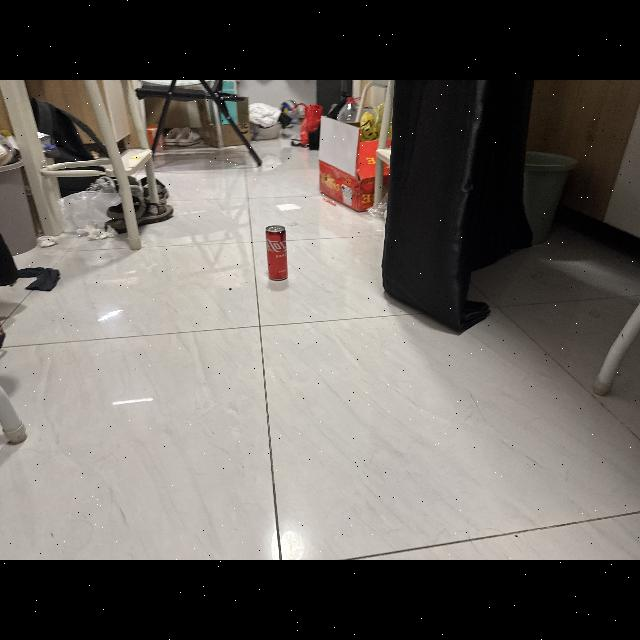Cola: (258, 222, 292, 288)
